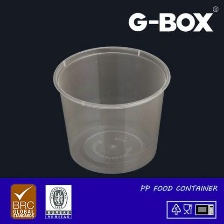plastic_box: (43, 40, 176, 177)
